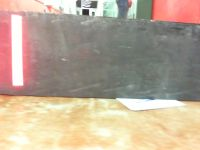switch: (11, 15, 22, 86)
